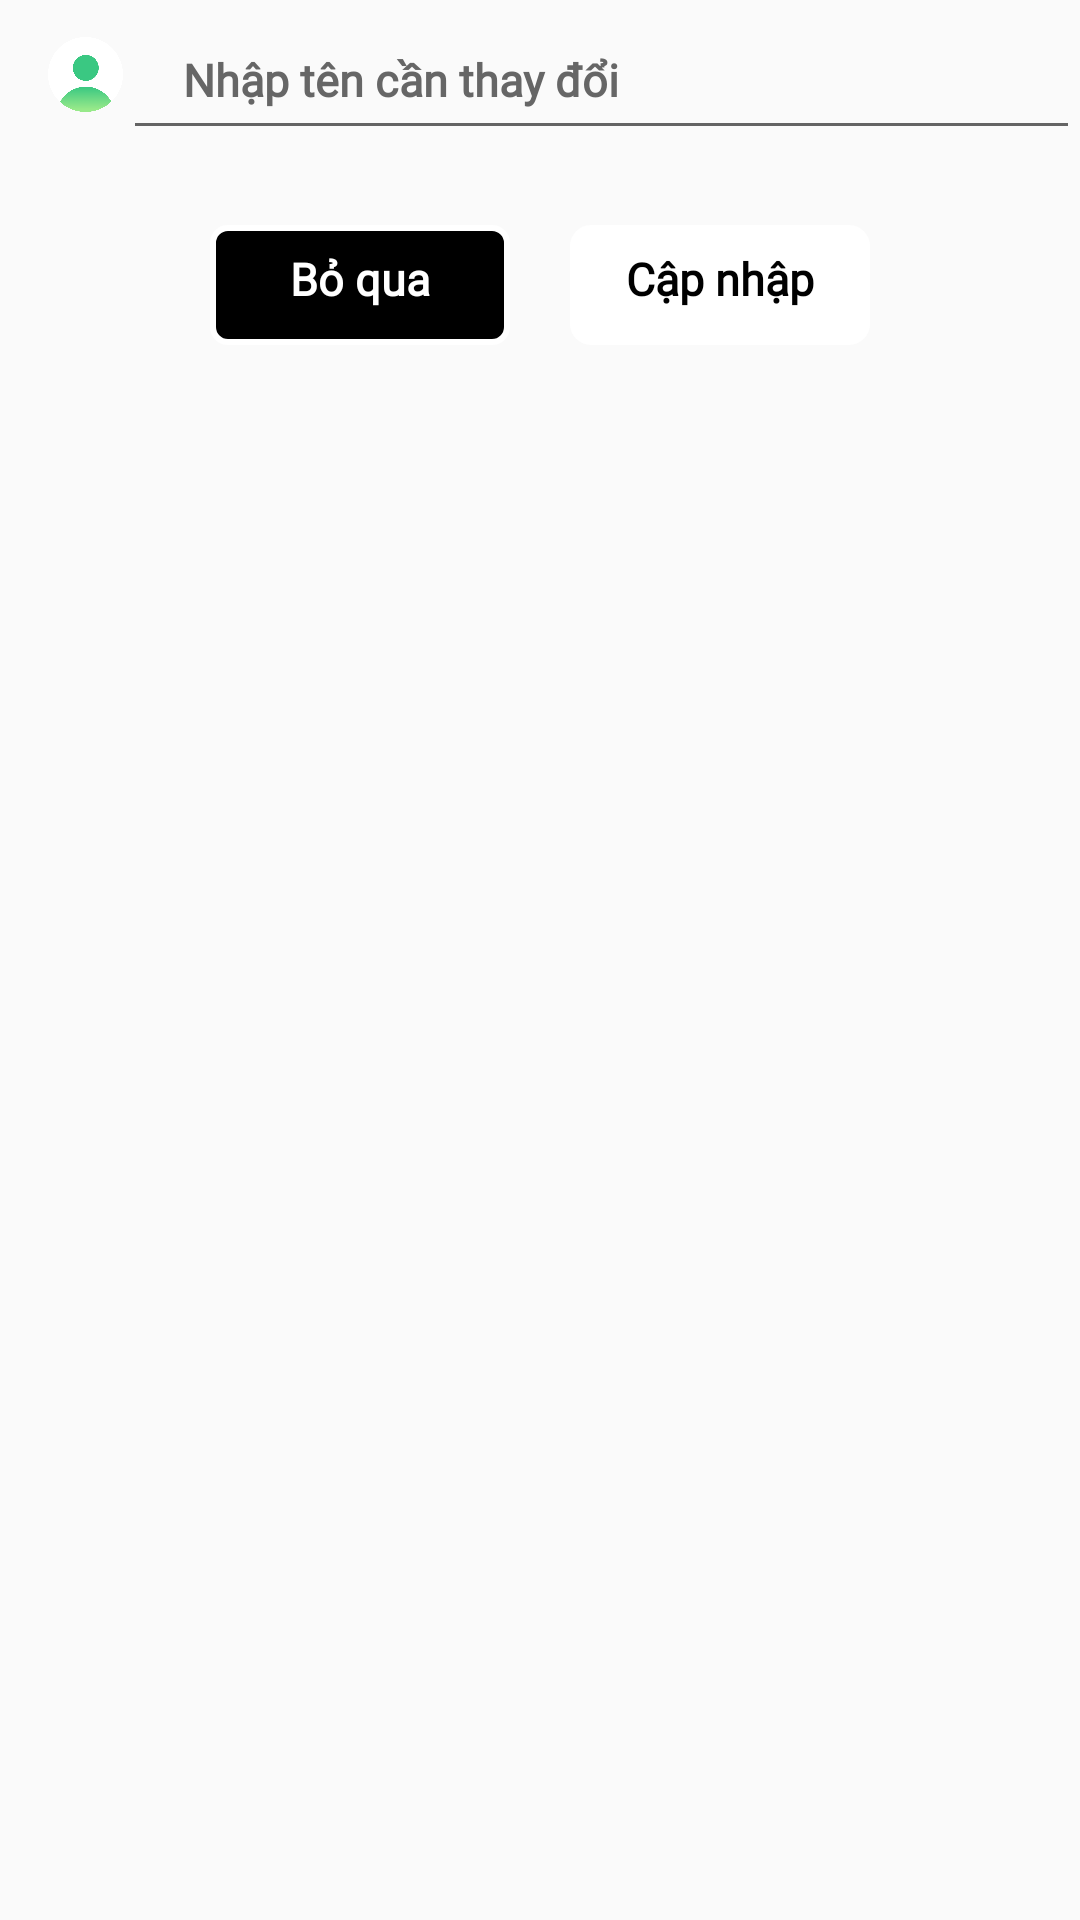

Screen size 1080px x 1920px. Icon name, then its center in pixels as (x=x, y=y):
profile: (x=85, y=83)
